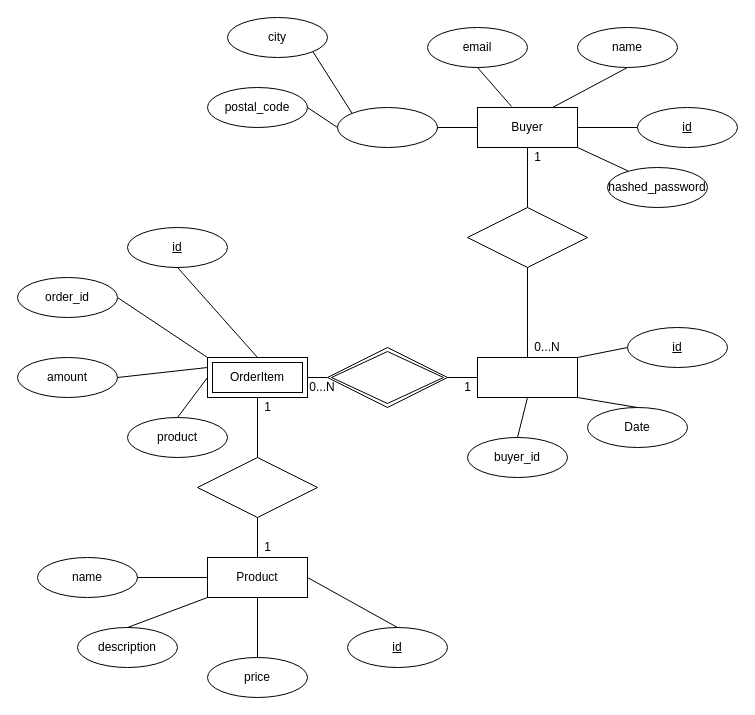
Some shapes in this 755 by 715 pixel diagram are drawn without their labels. Here are the shapes that lost their labels. From the top down, the box of each, then its label:
(336, 106, 438, 148): address
(466, 206, 588, 268): Places
(326, 346, 448, 408): Contains
(476, 356, 578, 398): Order
(196, 456, 318, 518): has
